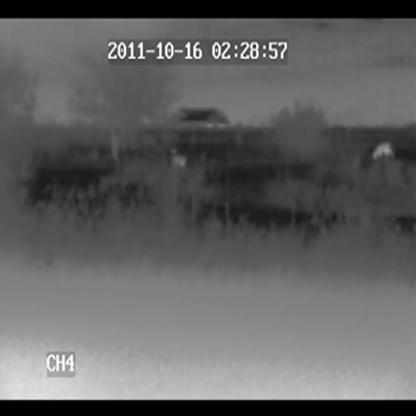rehkitze: (374, 141, 397, 165), (202, 110, 212, 112)
